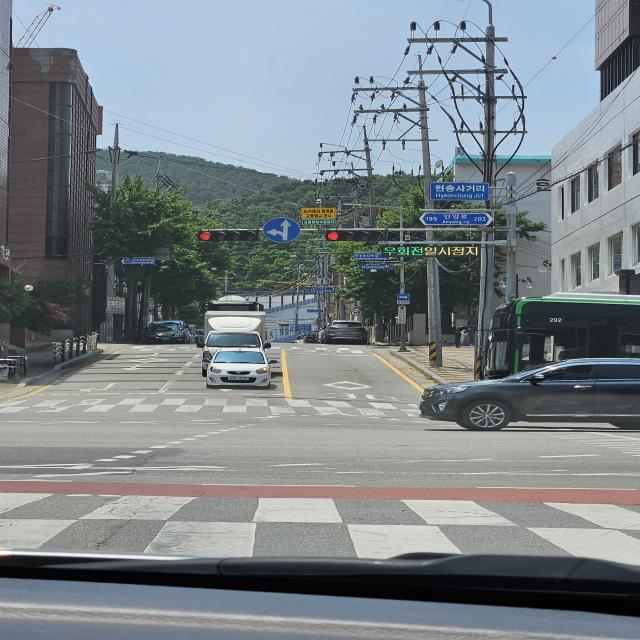Red Light: (198, 231, 212, 241), (326, 231, 339, 241)
